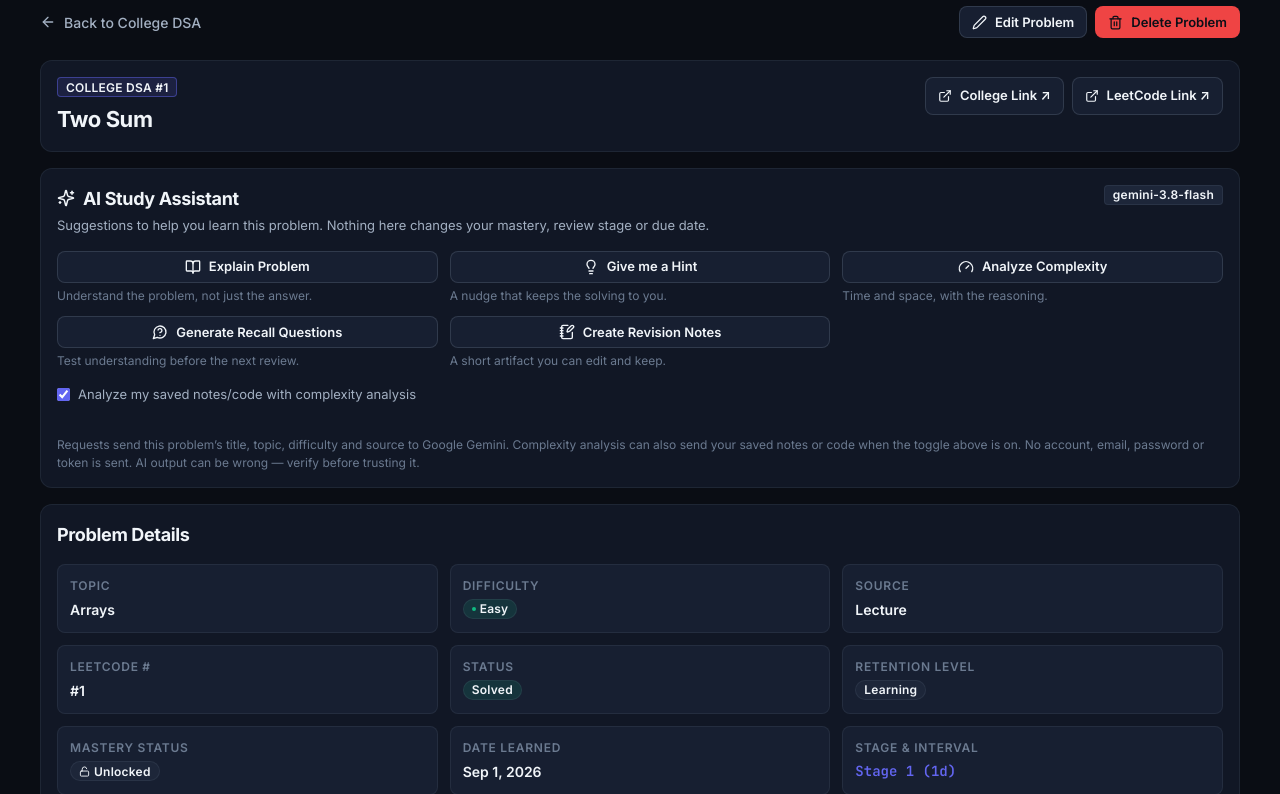
Scenario: Problem Detail (Phase 7) › AI assistance integration (Phase 2B) › generates recall questions with collapsed answers to promote active recall
Expected: the heading "Two Sum" is shown, [57, 106, 152, 132]
Click the button "Generate Recall Questions".
click(247, 332)  # box [57, 316, 438, 348]
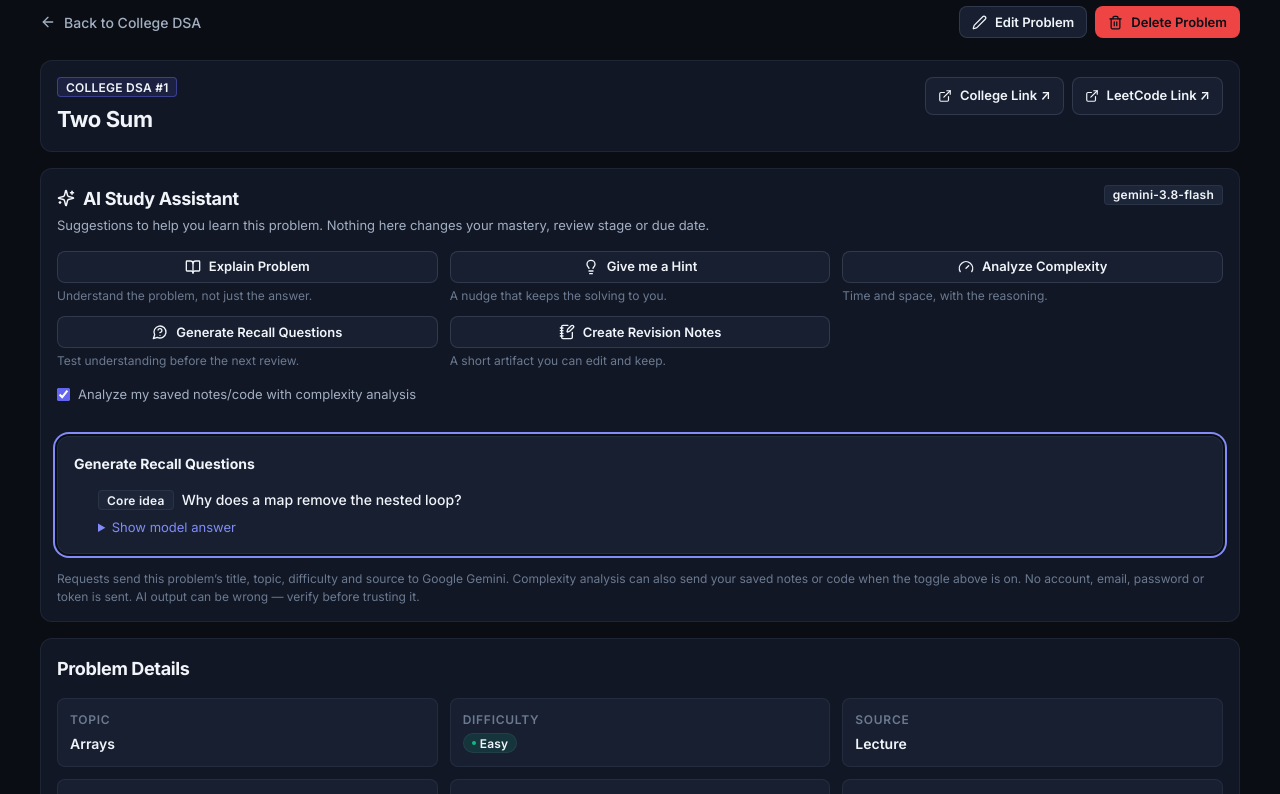
Expected: the text "Why does a map remove the nested loop?" is shown, [182, 491, 462, 508]
Expected: the text "It answers the complement query in O(1)." is shown, [112, 520, 236, 536]
